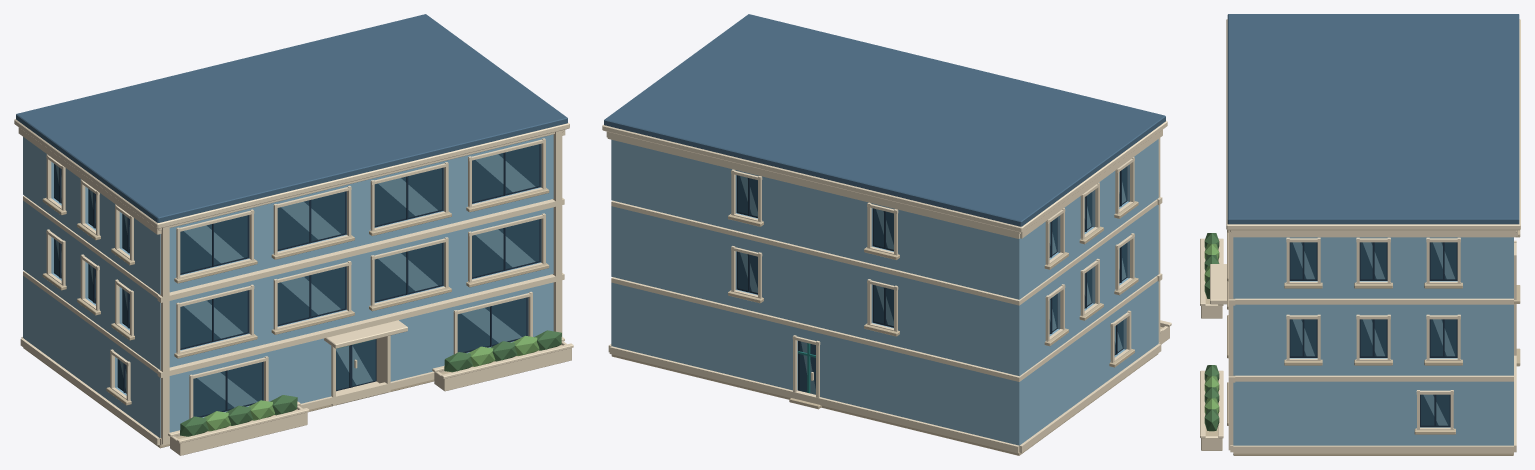
The model's file is garden_office.glb.
The picture shows the model from 3 angles, left to right: view 1: azimuth 30°, elevation 25°; view 2: azimuth 150°, elevation 25°; view 3: azimuth 270°, elevation 25°; orthographic projection. The views are drawn at different scales.
Visible parts, largest first — view 1: GardenOffice_StaticMesh; view 2: GardenOffice_StaticMesh; view 3: GardenOffice_StaticMesh.
Part boxes in pixels (left/top/right/bottom): GardenOffice_StaticMesh: left=14, top=14, right=573, bottom=455; GardenOffice_StaticMesh: left=602, top=14, right=1171, bottom=455; GardenOffice_StaticMesh: left=1200, top=14, right=1520, bottom=455.
Size of the model in its own units: 18.12 by 9.81 by 11.89.
